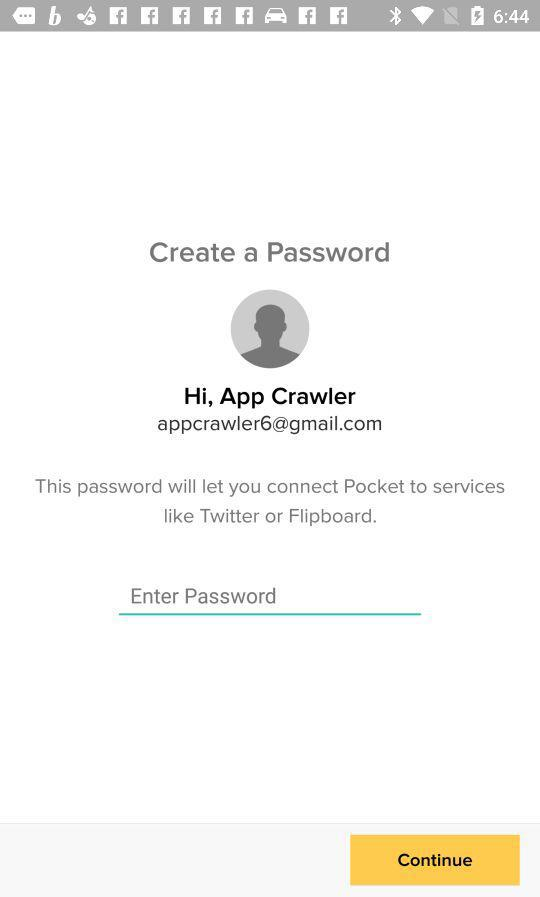EditText: (119, 587, 422, 617)
Icon: (230, 290, 310, 369)
Text: (35, 478, 505, 527), (150, 242, 390, 264), (158, 416, 382, 436), (185, 387, 357, 410), (132, 587, 276, 604)
TextButton: (350, 834, 521, 886)
UpperTaskBar: (1, 1, 540, 33)
